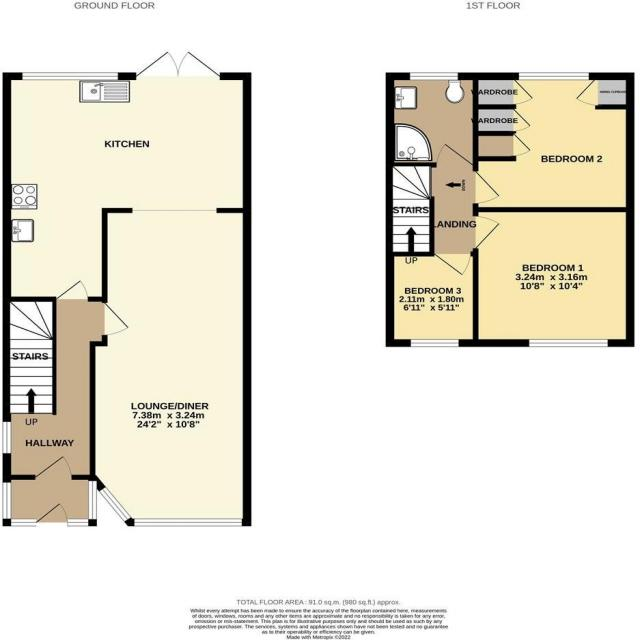DOOR: (472, 170, 501, 205), (435, 143, 473, 169), (472, 214, 500, 249), (101, 302, 129, 335), (433, 252, 472, 275), (55, 280, 88, 302)
DOUBLE DOOR: (130, 42, 224, 83)
ROOM: (1, 49, 251, 527), (472, 206, 635, 348), (472, 72, 635, 213), (384, 252, 479, 347)
WINDOW: (98, 487, 131, 521), (135, 518, 242, 526), (22, 72, 118, 80), (529, 338, 608, 347), (517, 72, 588, 81), (409, 72, 458, 81), (411, 339, 458, 348), (2, 421, 12, 454), (2, 482, 11, 518), (11, 518, 36, 527), (67, 519, 88, 527)
